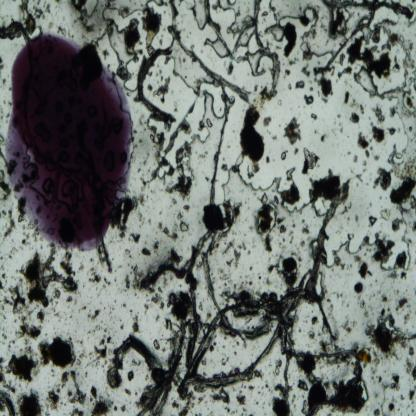Air bubble: (146, 0, 179, 54), (123, 47, 143, 92), (369, 4, 401, 32), (312, 194, 332, 222), (245, 50, 266, 76), (192, 0, 208, 29), (314, 271, 324, 295), (84, 0, 98, 17), (157, 165, 171, 179), (286, 168, 296, 180), (281, 150, 287, 162)
Background material: (361, 305, 416, 357), (325, 361, 367, 415), (349, 37, 394, 81), (306, 168, 352, 209), (18, 250, 49, 308), (319, 0, 416, 18), (42, 252, 78, 294), (240, 102, 265, 162), (388, 155, 416, 206), (257, 192, 280, 252), (6, 345, 40, 384), (39, 335, 77, 368), (400, 36, 416, 112), (0, 11, 36, 44), (143, 7, 162, 58), (7, 280, 33, 317), (370, 20, 400, 52), (68, 0, 96, 34), (112, 196, 134, 238), (371, 232, 396, 266), (278, 252, 300, 289), (167, 291, 193, 322), (14, 314, 42, 342), (221, 284, 260, 304), (16, 388, 43, 416), (164, 172, 193, 198), (125, 17, 142, 61), (314, 66, 334, 103), (68, 370, 88, 405), (96, 237, 114, 275), (326, 10, 348, 40), (362, 346, 380, 379), (225, 240, 247, 267), (282, 21, 298, 58), (43, 385, 62, 416), (176, 141, 193, 175), (146, 114, 176, 133), (283, 115, 302, 145), (280, 180, 301, 206), (374, 166, 394, 193), (321, 330, 343, 354), (139, 167, 159, 193), (150, 125, 164, 162), (300, 147, 319, 174), (2, 208, 17, 241), (105, 365, 124, 391), (148, 286, 165, 315), (154, 76, 170, 105), (258, 86, 278, 109), (91, 396, 113, 416), (355, 255, 374, 278), (0, 389, 16, 416), (178, 391, 195, 416), (225, 198, 239, 226), (0, 169, 12, 201), (370, 121, 386, 144), (166, 246, 184, 266), (211, 386, 230, 404), (233, 278, 254, 293), (88, 259, 100, 285), (372, 102, 386, 124), (230, 152, 244, 174), (162, 223, 178, 242), (300, 40, 314, 61), (301, 399, 318, 416), (132, 266, 144, 290), (360, 298, 373, 320), (343, 315, 358, 334), (357, 130, 370, 151), (381, 382, 389, 416), (218, 267, 233, 285), (18, 0, 30, 22), (394, 296, 410, 312), (336, 66, 354, 80), (246, 162, 260, 180), (395, 249, 407, 269), (48, 288, 62, 304), (266, 261, 282, 275), (406, 358, 416, 380), (32, 6, 46, 21), (94, 345, 108, 360), (34, 310, 49, 324), (390, 374, 402, 391), (392, 54, 402, 74), (262, 232, 272, 252), (86, 324, 108, 333), (249, 214, 260, 232), (378, 208, 392, 222), (0, 356, 7, 384), (333, 254, 346, 269), (1, 380, 16, 393), (87, 355, 100, 370), (117, 65, 129, 81), (86, 308, 102, 320), (326, 297, 334, 321), (152, 240, 162, 258), (224, 58, 234, 76), (105, 18, 114, 38), (60, 370, 70, 388), (0, 295, 12, 310), (392, 216, 403, 232), (387, 394, 396, 413), (276, 216, 286, 233), (296, 378, 309, 391), (304, 26, 317, 39), (20, 232, 32, 246), (353, 280, 364, 295), (134, 194, 145, 209), (75, 350, 84, 368), (163, 274, 176, 286), (32, 230, 43, 244), (128, 232, 140, 244), (274, 358, 282, 376), (66, 294, 78, 306), (18, 205, 26, 223), (349, 112, 360, 125), (0, 273, 7, 293), (123, 246, 133, 260), (89, 385, 97, 402), (302, 219, 310, 236), (136, 211, 145, 226), (164, 317, 173, 332), (132, 314, 139, 333), (236, 394, 247, 406), (179, 221, 191, 232), (199, 150, 210, 162), (342, 201, 352, 214), (8, 246, 18, 259), (350, 97, 359, 111), (381, 292, 392, 303), (299, 16, 311, 26), (294, 80, 306, 90), (117, 6, 129, 16), (402, 312, 412, 324), (102, 276, 112, 288), (408, 385, 416, 400), (291, 394, 297, 414), (140, 247, 152, 257), (304, 94, 314, 106), (368, 214, 377, 227), (52, 306, 61, 319), (156, 68, 164, 82), (100, 49, 110, 60), (56, 26, 66, 37), (151, 338, 160, 350), (339, 52, 347, 65), (71, 408, 84, 416), (387, 126, 397, 136), (372, 406, 382, 416), (254, 368, 263, 379), (171, 398, 180, 409), (302, 64, 310, 76), (142, 154, 150, 166), (248, 382, 256, 394), (44, 2, 52, 14), (319, 131, 327, 143), (308, 330, 316, 342), (263, 115, 271, 127), (204, 311, 212, 323), (410, 218, 416, 233), (399, 270, 408, 280), (310, 316, 319, 326), (220, 356, 230, 365), (356, 173, 364, 184), (209, 342, 217, 353), (344, 90, 350, 104), (287, 57, 299, 64), (78, 305, 87, 314), (125, 274, 130, 290), (242, 408, 252, 416), (0, 104, 5, 120), (131, 358, 141, 366), (106, 335, 114, 345), (265, 276, 273, 286), (76, 338, 84, 348), (168, 165, 175, 176), (198, 120, 205, 131), (395, 151, 403, 160), (182, 204, 190, 213), (206, 118, 214, 127), (364, 148, 370, 160), (157, 220, 163, 232), (99, 337, 107, 346), (222, 162, 230, 171), (289, 229, 294, 243), (0, 56, 4, 73), (128, 370, 134, 381), (123, 388, 132, 395), (143, 302, 148, 314), (312, 111, 318, 121), (352, 154, 358, 164), (108, 345, 113, 357), (373, 154, 380, 162), (47, 21, 54, 29), (147, 84, 154, 92), (120, 404, 127, 412), (284, 70, 291, 78), (9, 340, 16, 348), (271, 134, 278, 142), (78, 263, 84, 272), (0, 312, 6, 321), (376, 374, 382, 383), (300, 241, 306, 250), (264, 155, 270, 164), (102, 359, 107, 369), (202, 356, 207, 366), (198, 396, 204, 404), (154, 314, 160, 322), (147, 70, 153, 78), (224, 406, 230, 414), (178, 210, 182, 222), (171, 198, 177, 206), (2, 78, 7, 87), (199, 300, 203, 311), (6, 113, 10, 124), (0, 264, 6, 271), (1, 333, 8, 339), (55, 0, 63, 5), (294, 146, 299, 154), (51, 369, 55, 378), (122, 301, 127, 308), (360, 105, 364, 113), (134, 127, 138, 135), (401, 394, 405, 402), (205, 175, 209, 183), (194, 412, 202, 416), (264, 382, 268, 390), (262, 11, 268, 16), (134, 390, 139, 396), (258, 274, 262, 281), (113, 405, 117, 412), (84, 372, 88, 379), (22, 222, 25, 231), (139, 138, 144, 143), (120, 324, 124, 330), (137, 167, 141, 173), (355, 214, 358, 222), (148, 219, 152, 225), (236, 340, 240, 346), (247, 249, 250, 257), (249, 265, 253, 271), (8, 101, 12, 106), (0, 256, 4, 261), (37, 0, 40, 6), (3, 100, 6, 104), (9, 87, 11, 91)
Cellulose filter fibre: (177, 301, 293, 397), (170, 0, 250, 100), (186, 322, 282, 390), (284, 195, 341, 308), (114, 334, 165, 410), (318, 10, 374, 73), (154, 318, 187, 416), (138, 48, 174, 128), (159, 96, 199, 167), (202, 233, 231, 328), (252, 1, 282, 90), (293, 349, 363, 387), (209, 82, 230, 204), (204, 0, 236, 61), (137, 254, 190, 288), (283, 352, 292, 408)
Diatom: (308, 384, 326, 407)
Fragment: (201, 204, 226, 232)
Pen: (4, 32, 136, 254)
